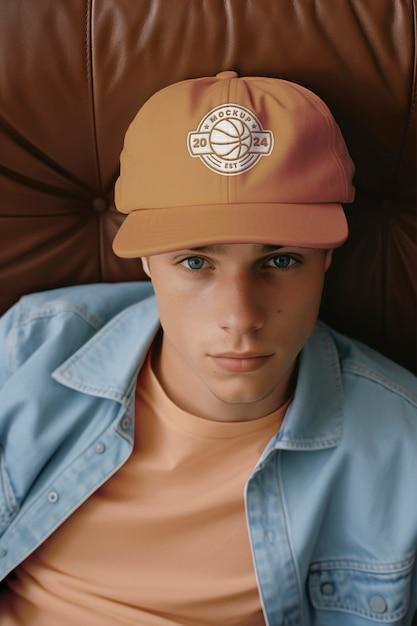cap: (107, 62, 370, 265)
